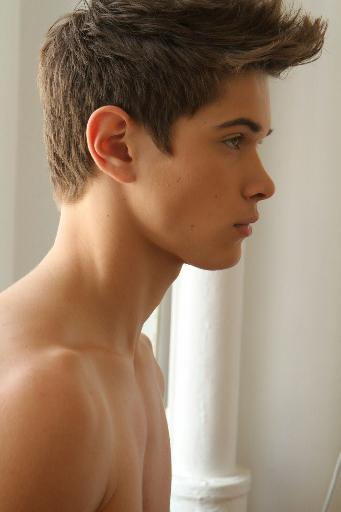right_eye: (216, 133, 254, 152)
right_lip_corner: (230, 215, 244, 232)
